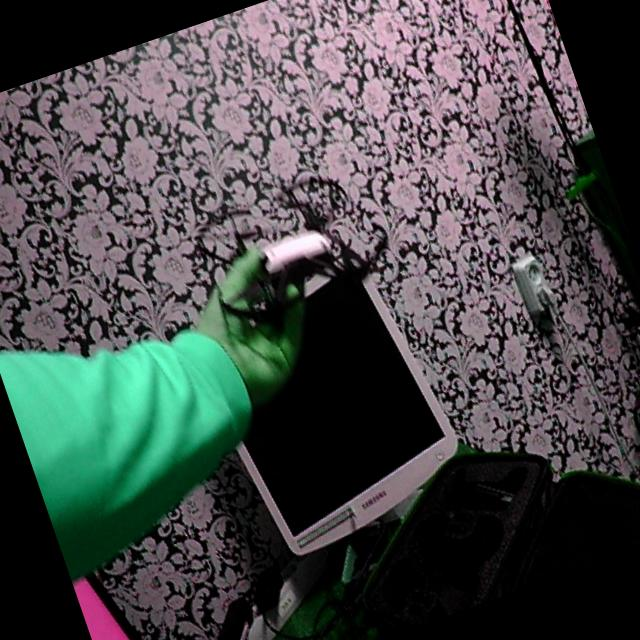drone: (175, 141, 416, 355)
